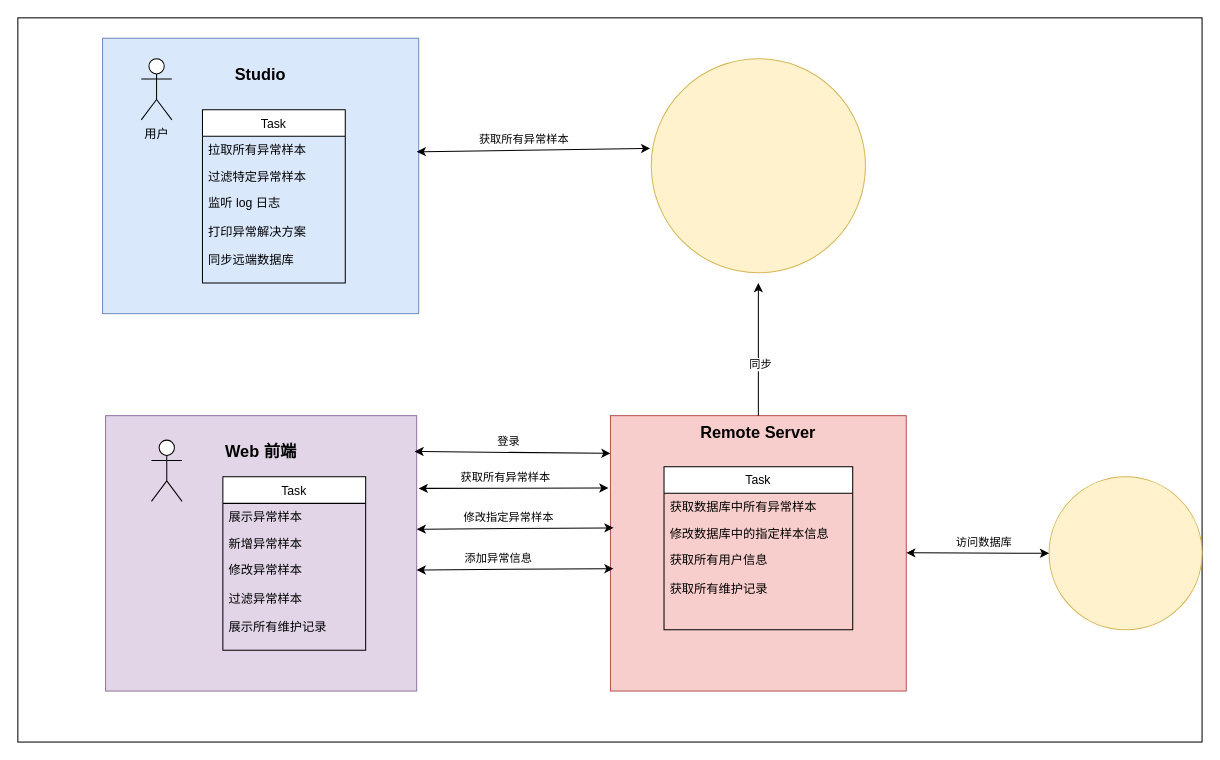
Some shapes in this 1220 by 760 pixel diagram are drawn without their labels. Here are the shapes that lost their labels. From the top down, the centre of each, then its label:
(x=757, y=165): Local DB
(x=166, y=470): 维护人员
(x=1125, y=553): Remote DB
